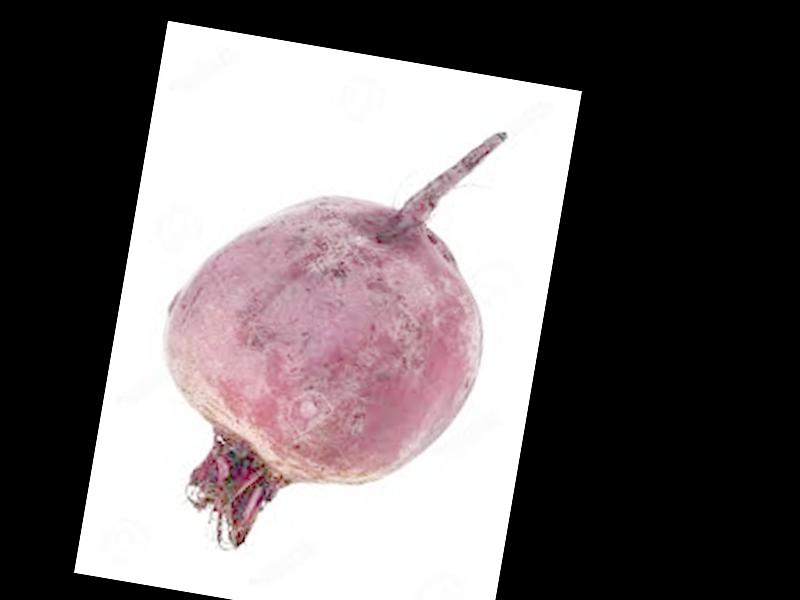Beet: (131, 82, 519, 585)
